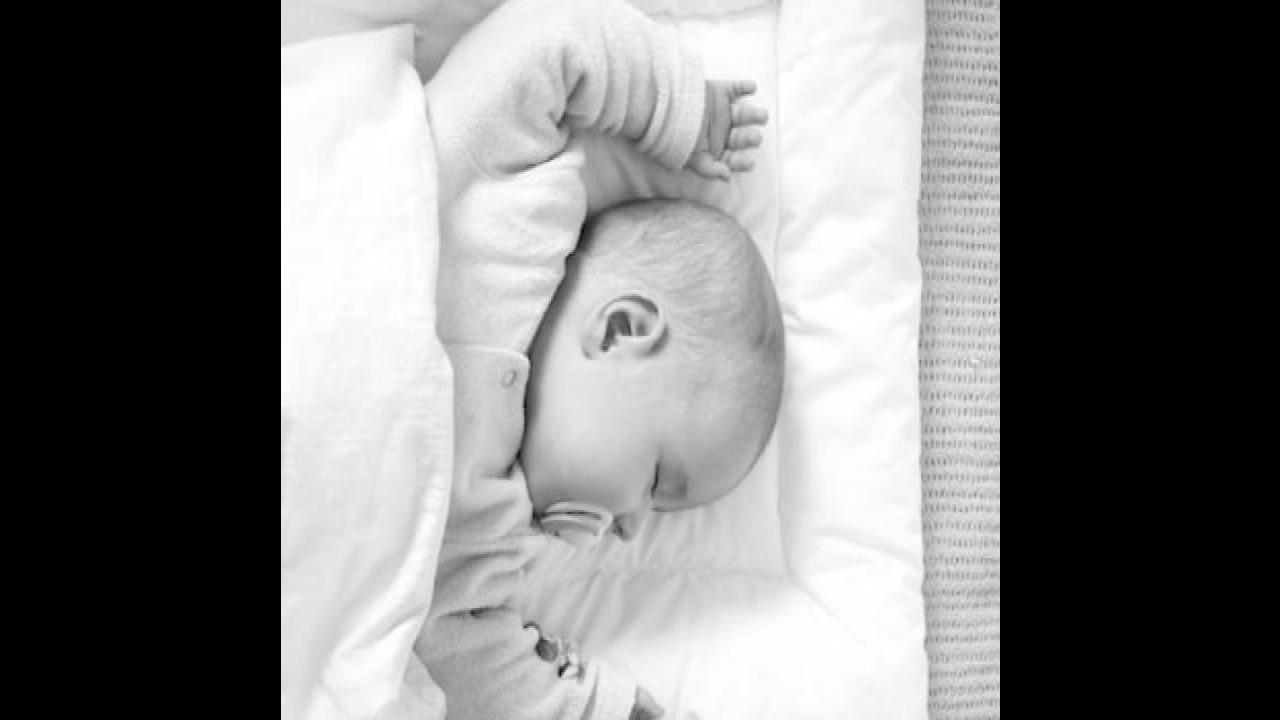hand: (690, 70, 766, 187), (595, 688, 658, 720)
